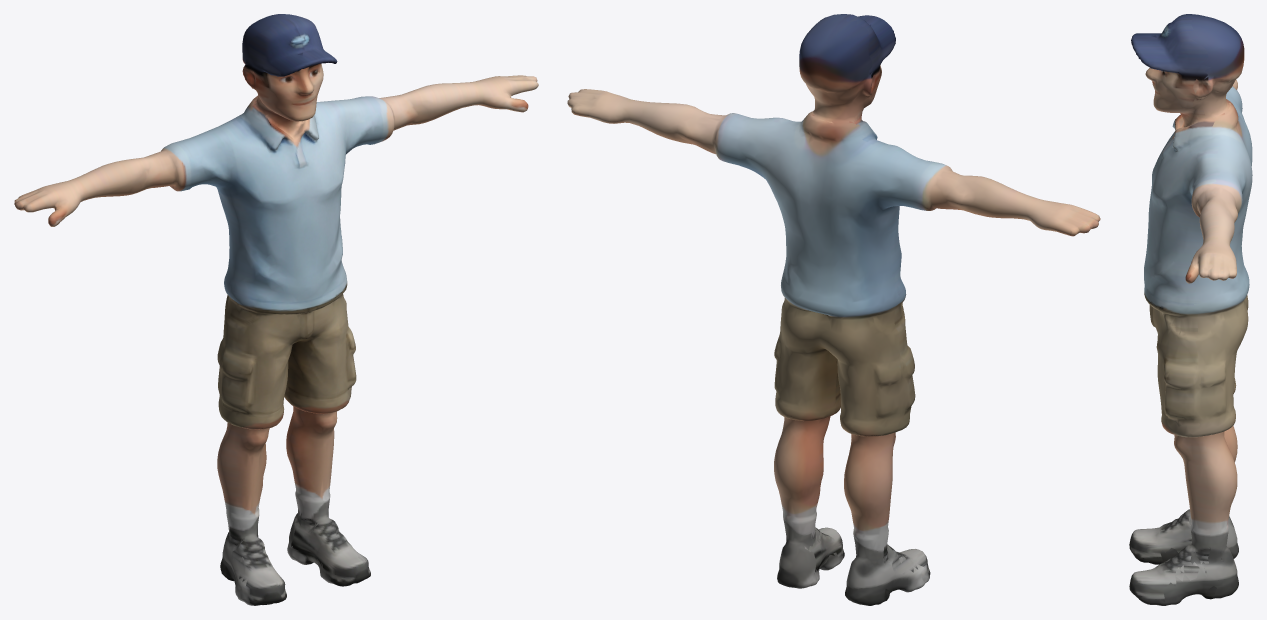
Rendered from golfer_static.glb.
3 renders of one model, left to right at view 1: azimuth 30°, elevation 25°; view 2: azimuth 150°, elevation 25°; view 3: azimuth 270°, elevation 25°, orthographic.
Parts seen in each view (by area): view 1: Golfer; view 2: Golfer; view 3: Golfer.
Part boxes in pixels (x1=…): Golfer: x1=14, y1=14, x2=538, y2=605; Golfer: x1=567, y1=14, x2=1100, y2=605; Golfer: x1=1129, y1=14, x2=1252, y2=605.
Bounding box in the file's own units: 1.76 × 1.8 × 0.3585.
1 material, 1 textured.
